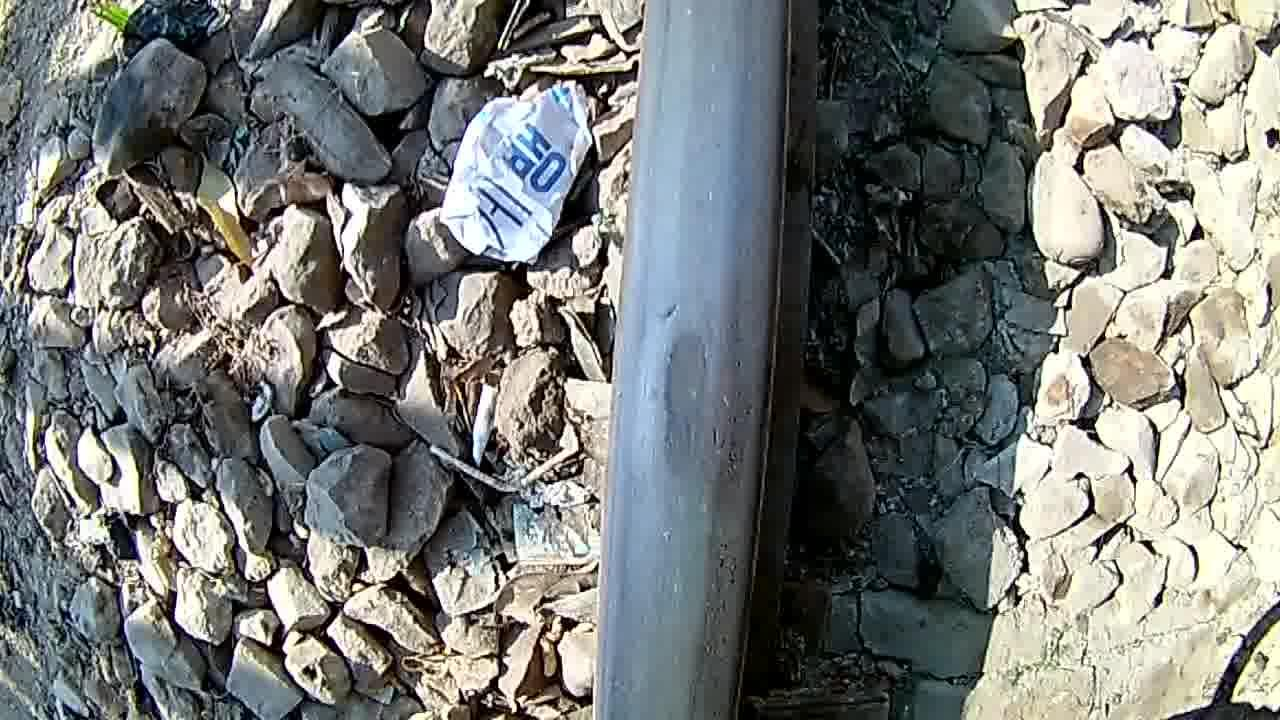bolt_missing: (624, 254, 770, 548)
